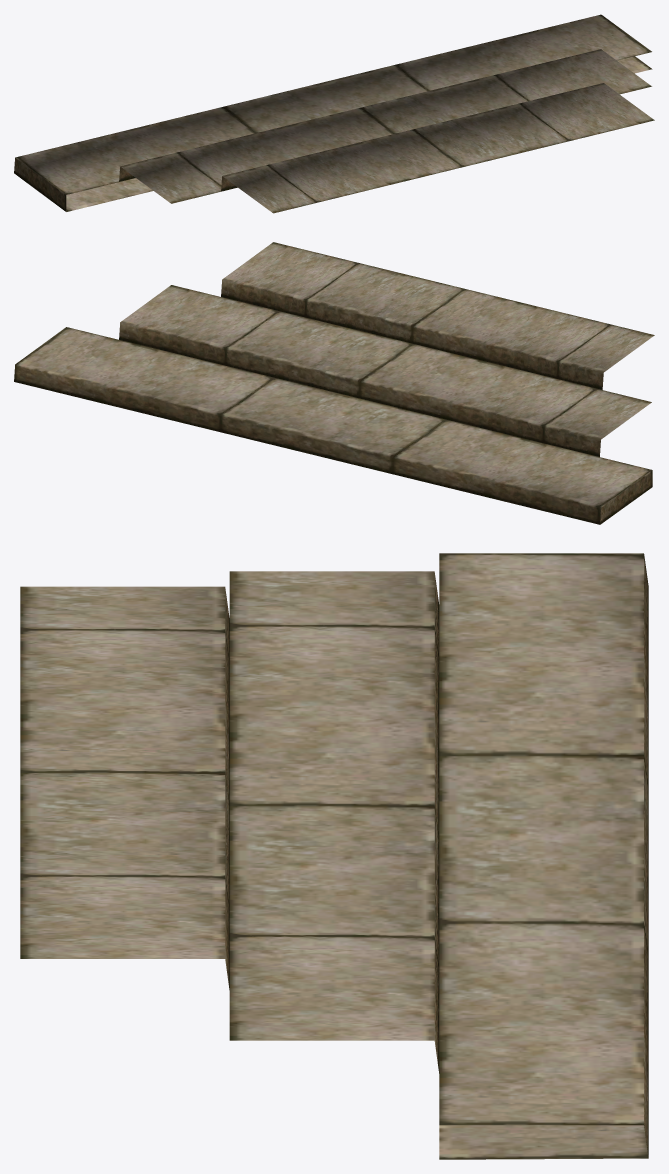
Rendered from EKH_THRONE_PS_TH_PLANE014847.fbx.
The picture shows the model from 3 angles, top to bottom: view 1: azimuth 30°, elevation 25°; view 2: azimuth 150°, elevation 25°; view 3: azimuth 270°, elevation 25°; orthographic projection. The views are drawn at different scales.
Visible parts, largest first — view 1: EKH_THRONE_PS_TH_PLANE014847; view 2: EKH_THRONE_PS_TH_PLANE014847; view 3: EKH_THRONE_PS_TH_PLANE014847.
Part boxes in pixels (bbox=[...]): EKH_THRONE_PS_TH_PLANE014847: bbox=[14, 14, 654, 213]; EKH_THRONE_PS_TH_PLANE014847: bbox=[14, 242, 654, 524]; EKH_THRONE_PS_TH_PLANE014847: bbox=[20, 553, 648, 1159].
Bounding box in the file's own units: 84529 × 6947 × 39233.
1 material, 1 textured.
